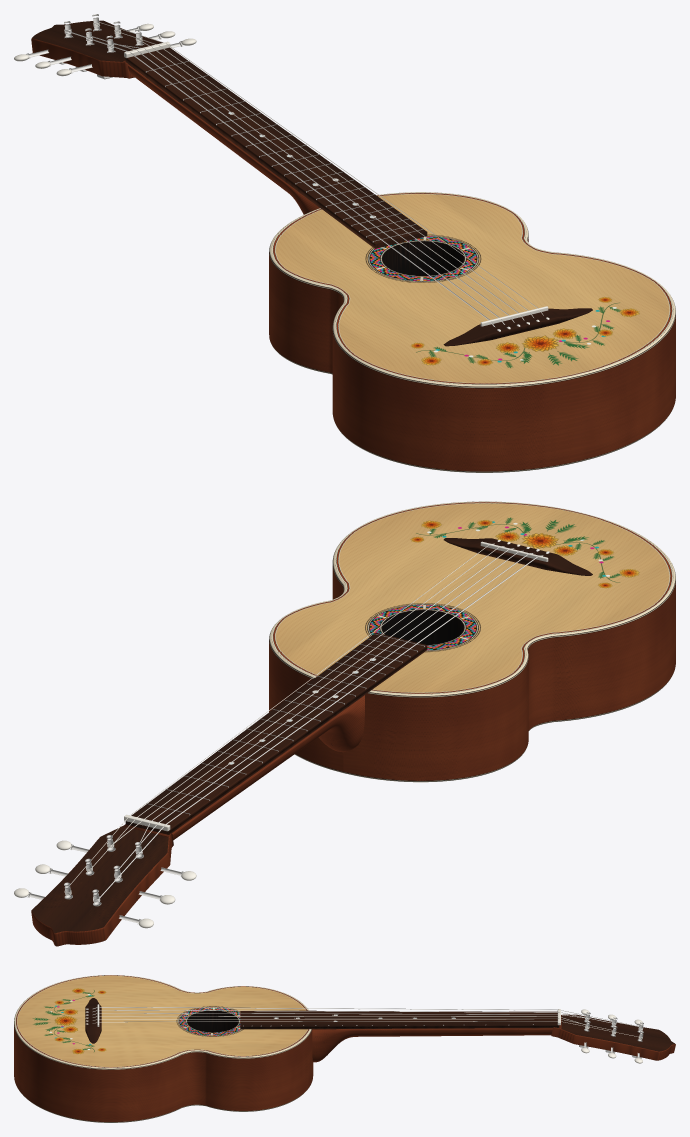
File: guitar_folk.glb
The picture shows the model from 3 angles, top to bottom: view 1: azimuth 30°, elevation 25°; view 2: azimuth 150°, elevation 25°; view 3: azimuth 270°, elevation 25°; orthographic projection. The views are drawn at different scales.
Visible parts, largest first — view 1: guitar; view 2: guitar; view 3: guitar.
Boxes of the visible parts, box(x1,y1,x2,y2) form: guitar: box(14, 14, 675, 472); guitar: box(14, 501, 675, 946); guitar: box(14, 975, 675, 1122).
Bounding box in the file's own units: 0.366 × 0.1131 × 1.09.
Materials: 5 (3 with a texture image).
